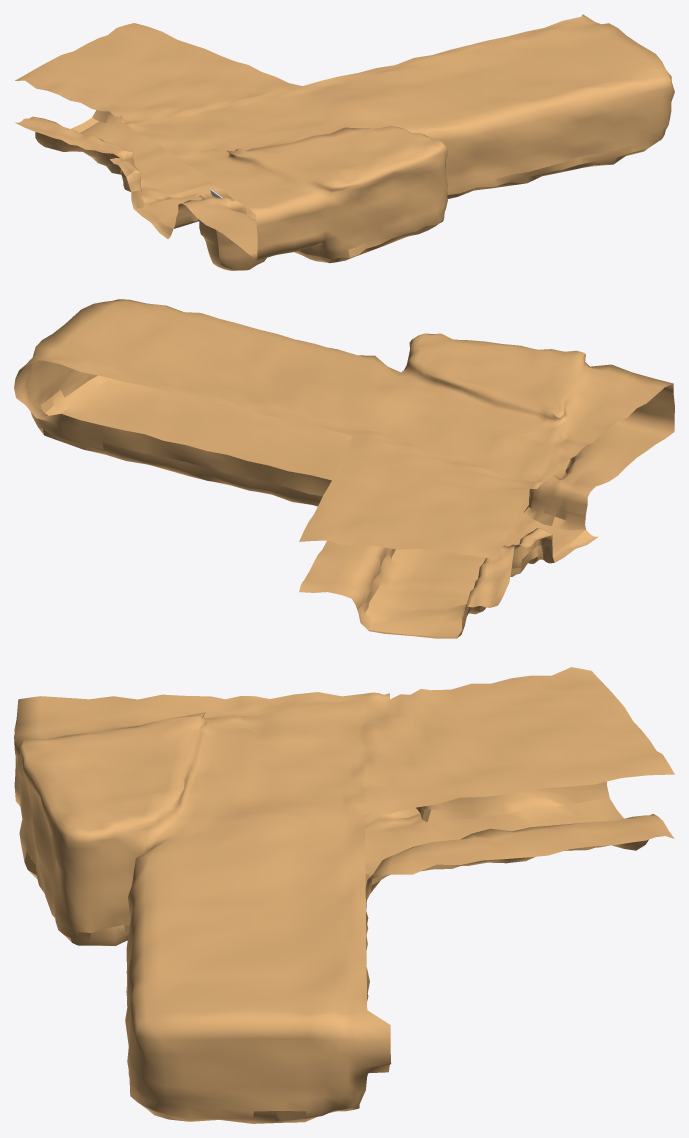
The model's file is Unique 6.fbx.
3 views of the same model, one above another, from view 1: azimuth 30°, elevation 25°; view 2: azimuth 150°, elevation 25°; view 3: azimuth 270°, elevation 25° (orthographic). The views are drawn at different scales.
Parts seen in each view (by area): view 1: Unique_006, Unique_006.001; view 2: Unique_006, Unique_006.001; view 3: Unique_006, Unique_006.001.
Part boxes in pixels (x1,y1,x2,y2): Unique_006: (14, 14, 674, 260); Unique_006.001: (35, 110, 662, 270); Unique_006: (14, 299, 674, 621); Unique_006.001: (38, 375, 598, 638); Unique_006: (14, 667, 674, 1118); Unique_006.001: (24, 781, 648, 1123).
Bounding box in the file's own units: 1107 × 335 × 866.
